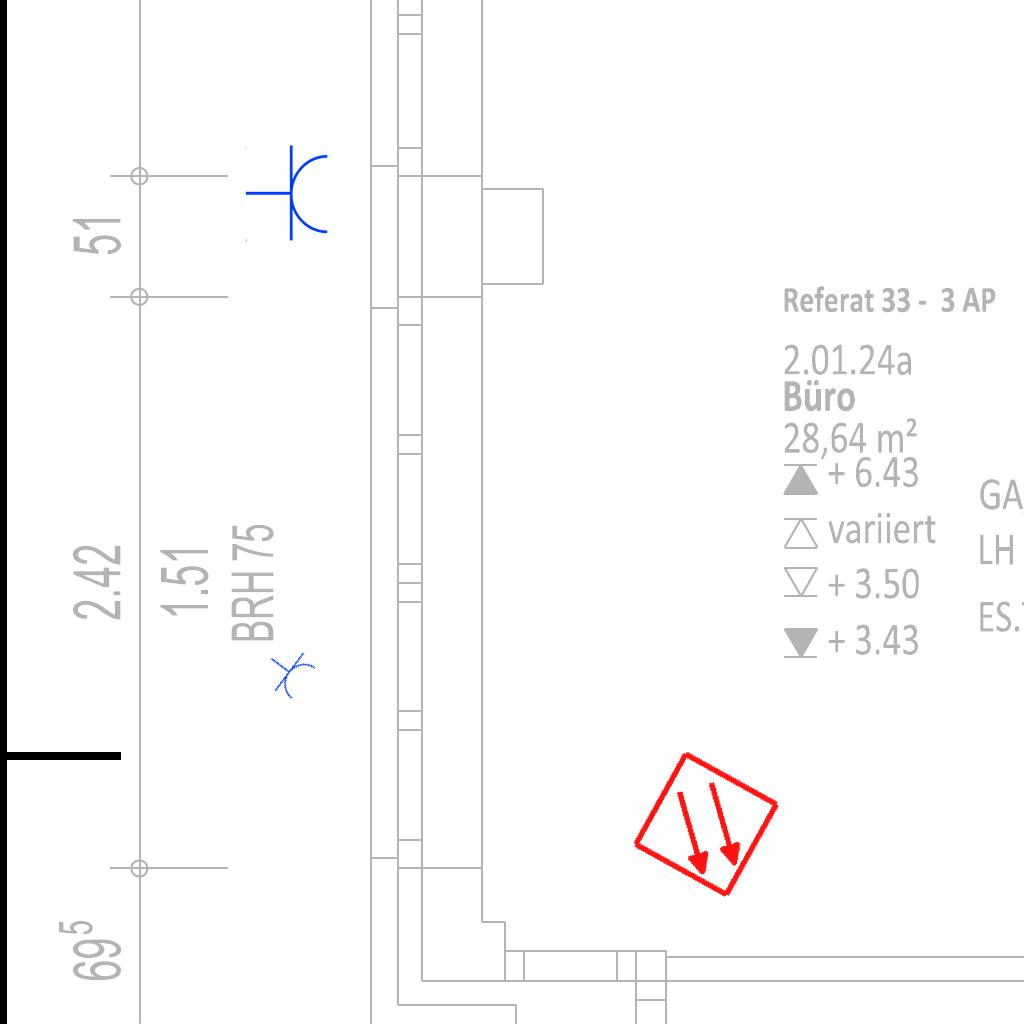RMO_Rauchmelder_optischer: (629, 747, 784, 902)
Schukosteckdose_einfach: (245, 144, 332, 244), (255, 638, 321, 705)
